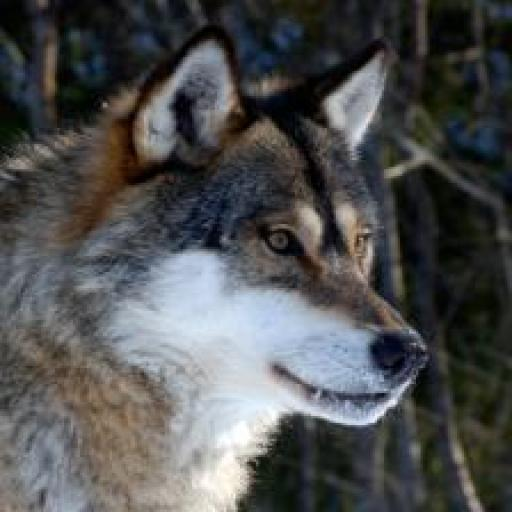wolf: (0, 9, 448, 511)
